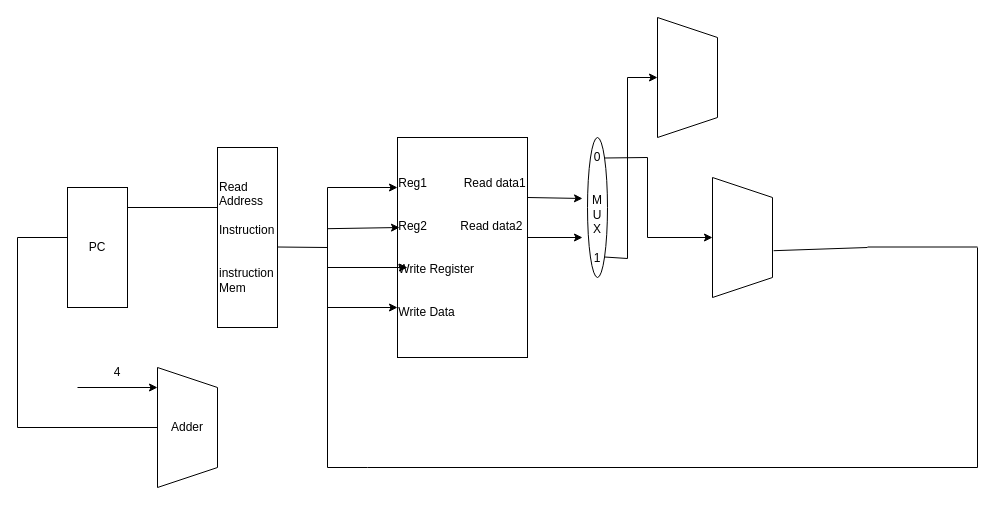
Some shapes in this 996 by 505 pixel diagram are drawn without their labels. The shapes that lost their labels are listed below. From the top down, each one's centre as x and y in pixels, then its label:
At (x=687, y=77): "FP UNIT".
At (x=742, y=237): "ALU".
